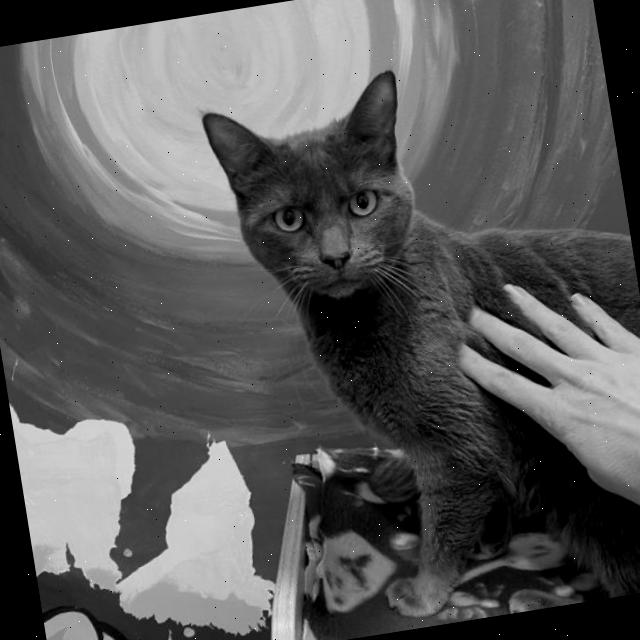russian_blue_cat: (190, 53, 452, 327)
